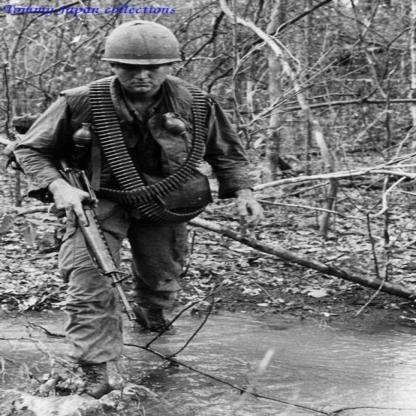Helmet: (100, 16, 190, 99)
